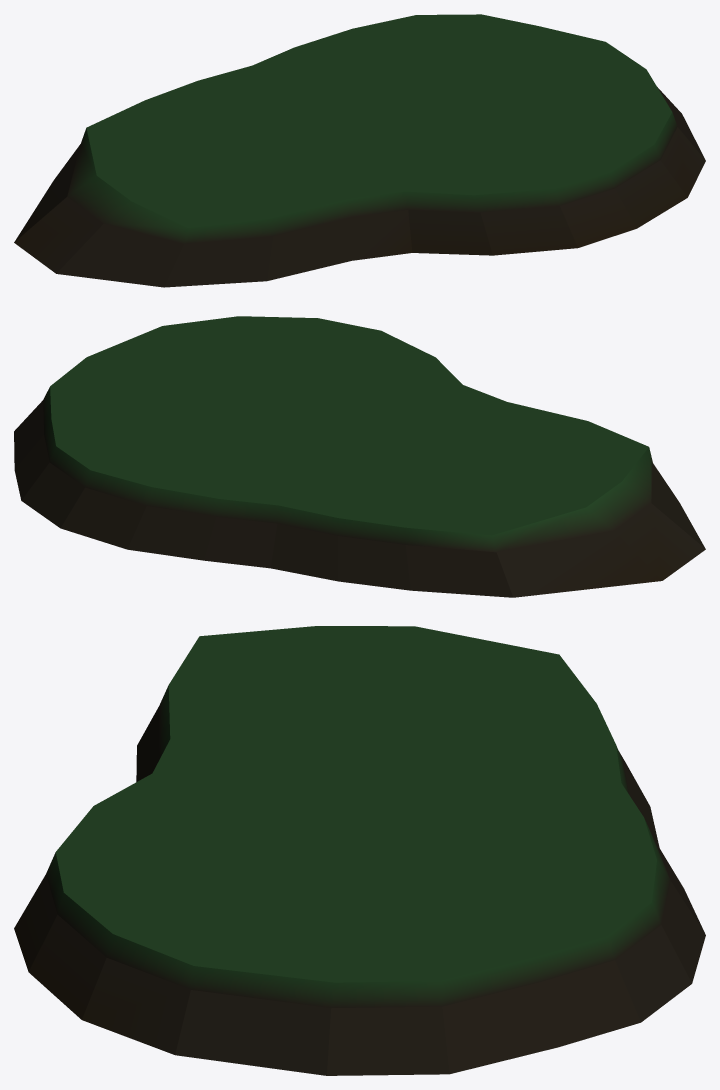
File: Ground_Start_top.fbx
3 views of the same model, one above another, from view 1: azimuth 30°, elevation 25°; view 2: azimuth 150°, elevation 25°; view 3: azimuth 270°, elevation 25° (orthographic). The views are drawn at different scales.
Visible parts, largest first — view 1: Terrain_Part1; view 2: Terrain_Part1; view 3: Terrain_Part1.
Boxes of the visible parts, x1=… form: Terrain_Part1: x1=14, y1=14, x2=705, y2=287; Terrain_Part1: x1=14, y1=316, x2=705, y2=597; Terrain_Part1: x1=14, y1=626, x2=705, y2=1075.
Bounding box in the file's own units: 57.87 × 4.41 × 39.08.
